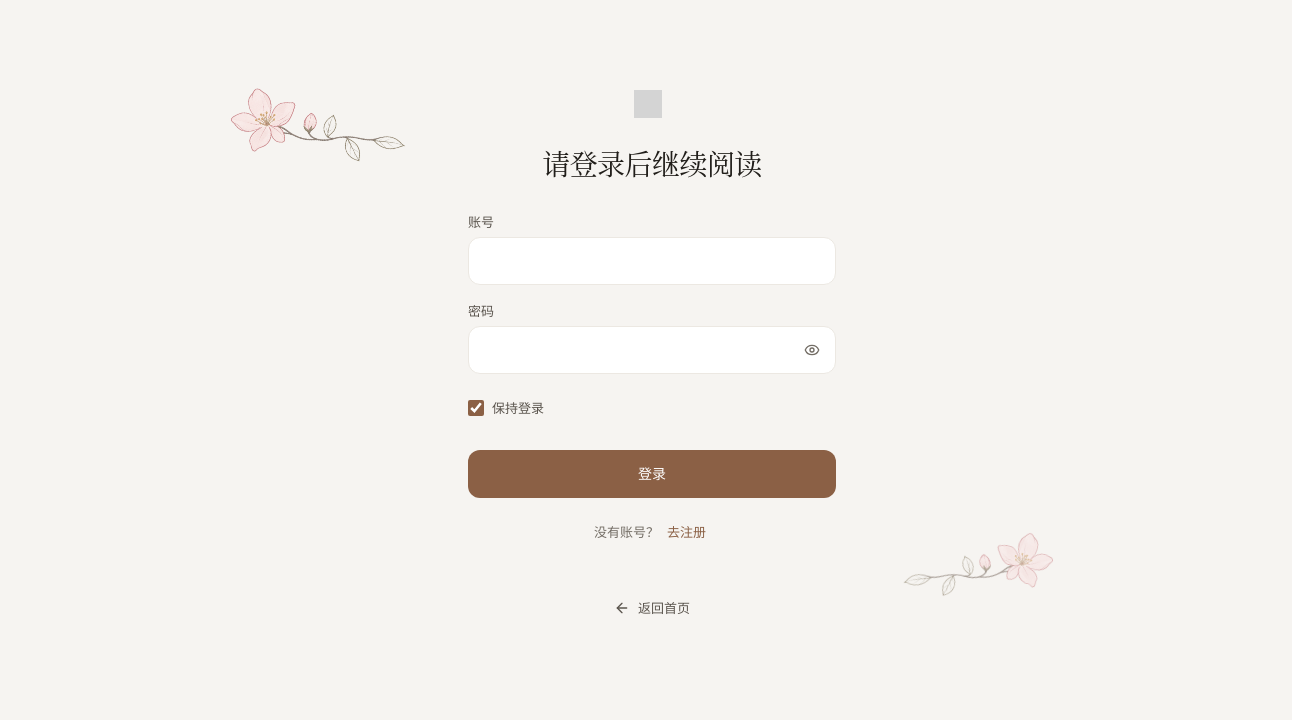
Scenario: Auth › 登录保留保持登录选择和来源页回跳
The width and height of the screenshot is (1292, 720).
Type " reader " into the field labelled "账号" at (652, 261), box [468,237,836,285]
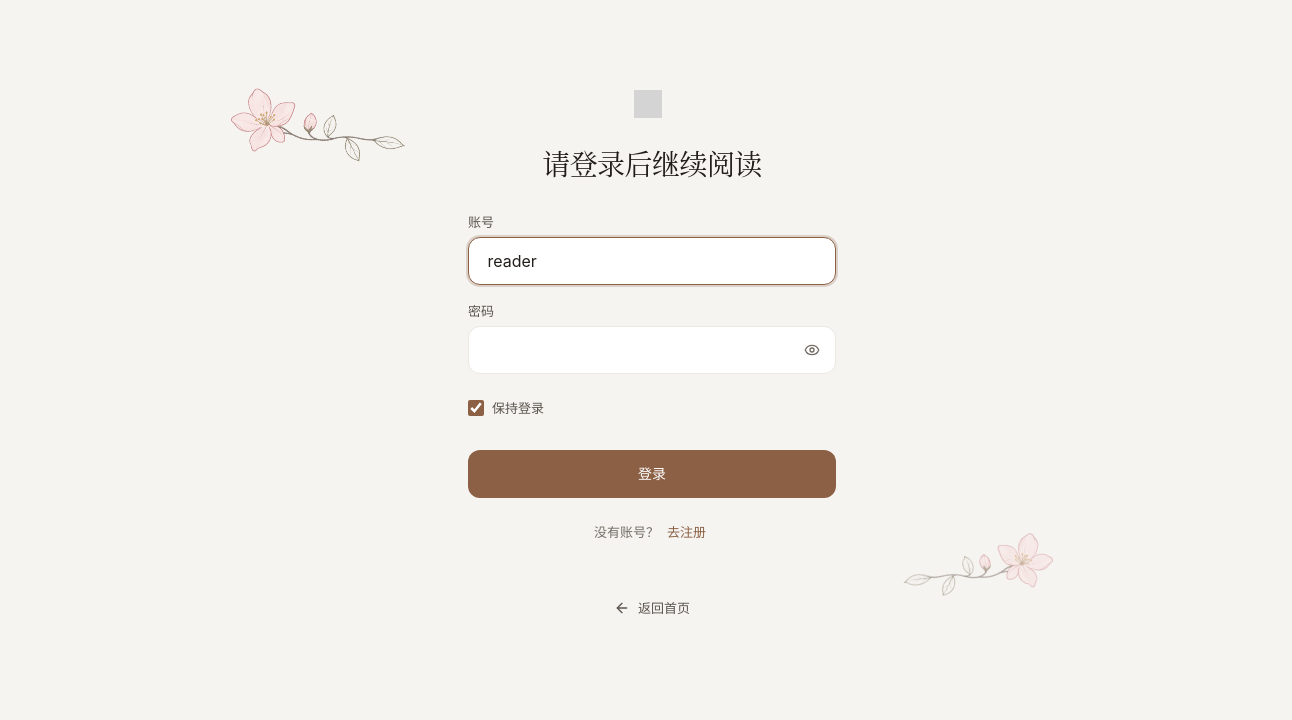
Type "secret" into the password field labelled "密码" at (652, 350), box [468,326,836,374]
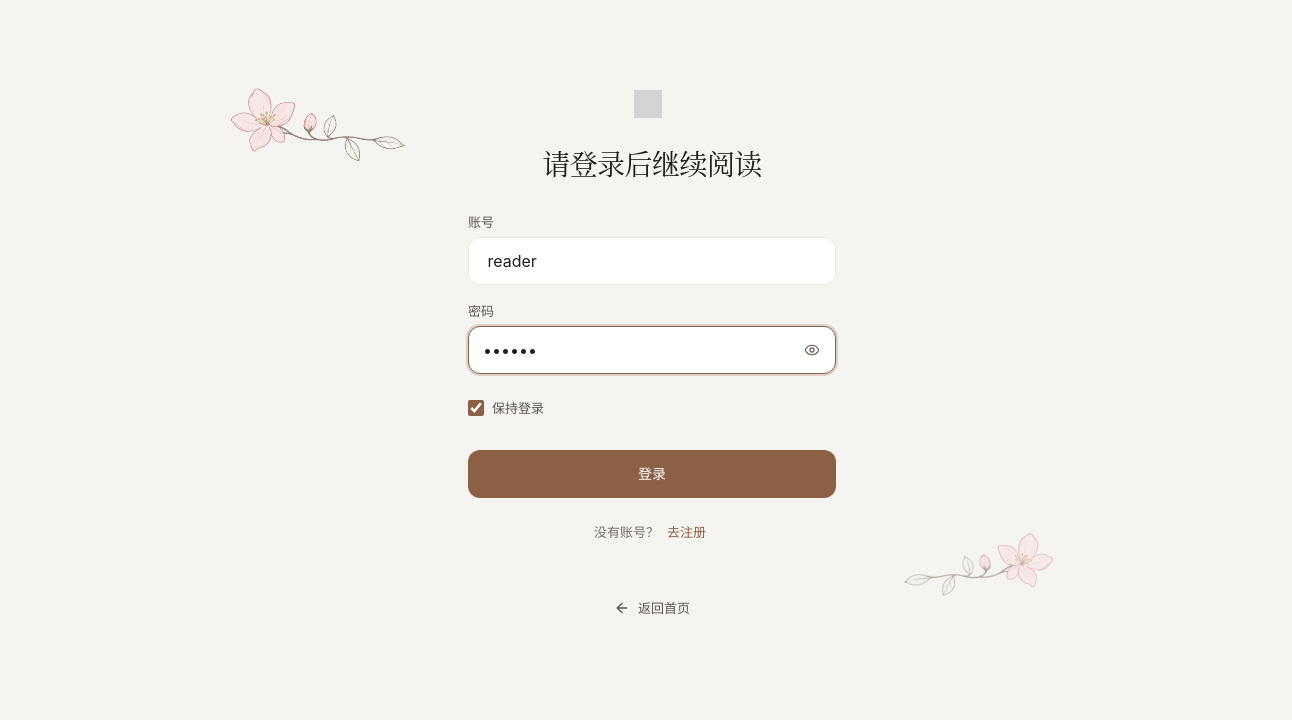
Click the checkbox labelled "保持登录" at (476, 408), box [468,400,484,416]
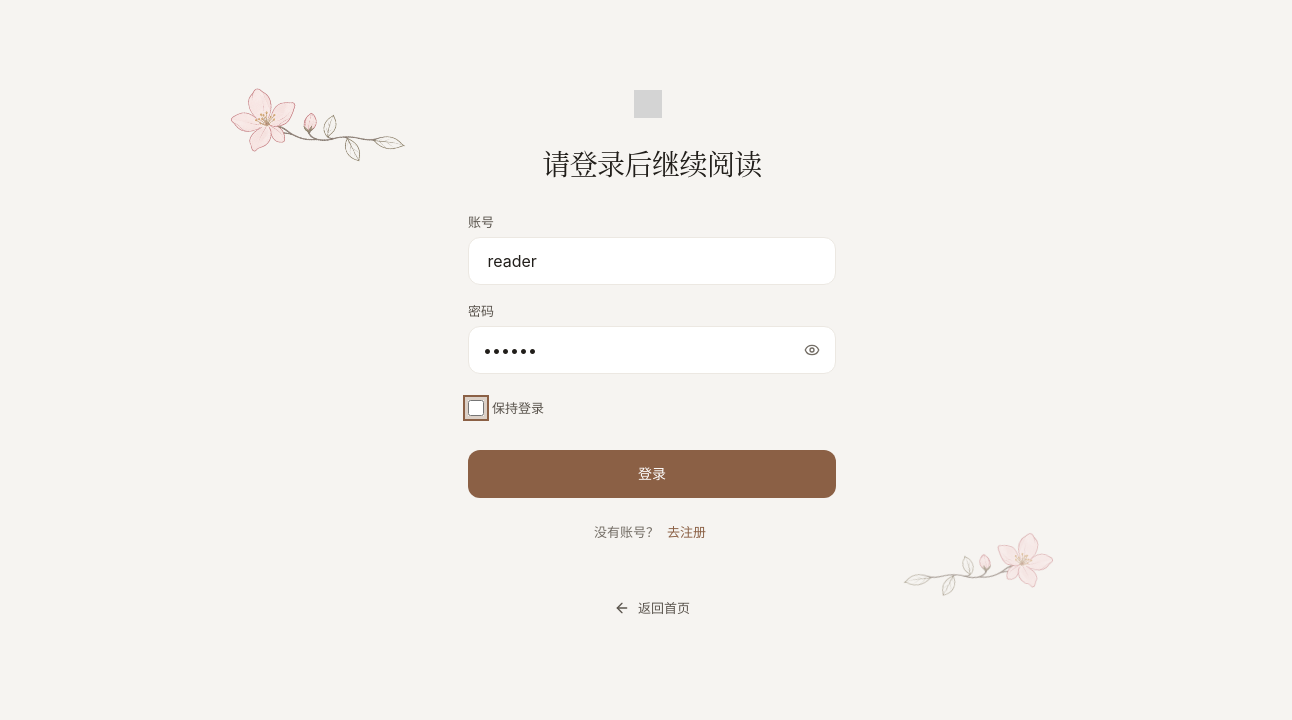
Click the button "登录" at (652, 474), box [468,450,836,498]
(page scrolled)
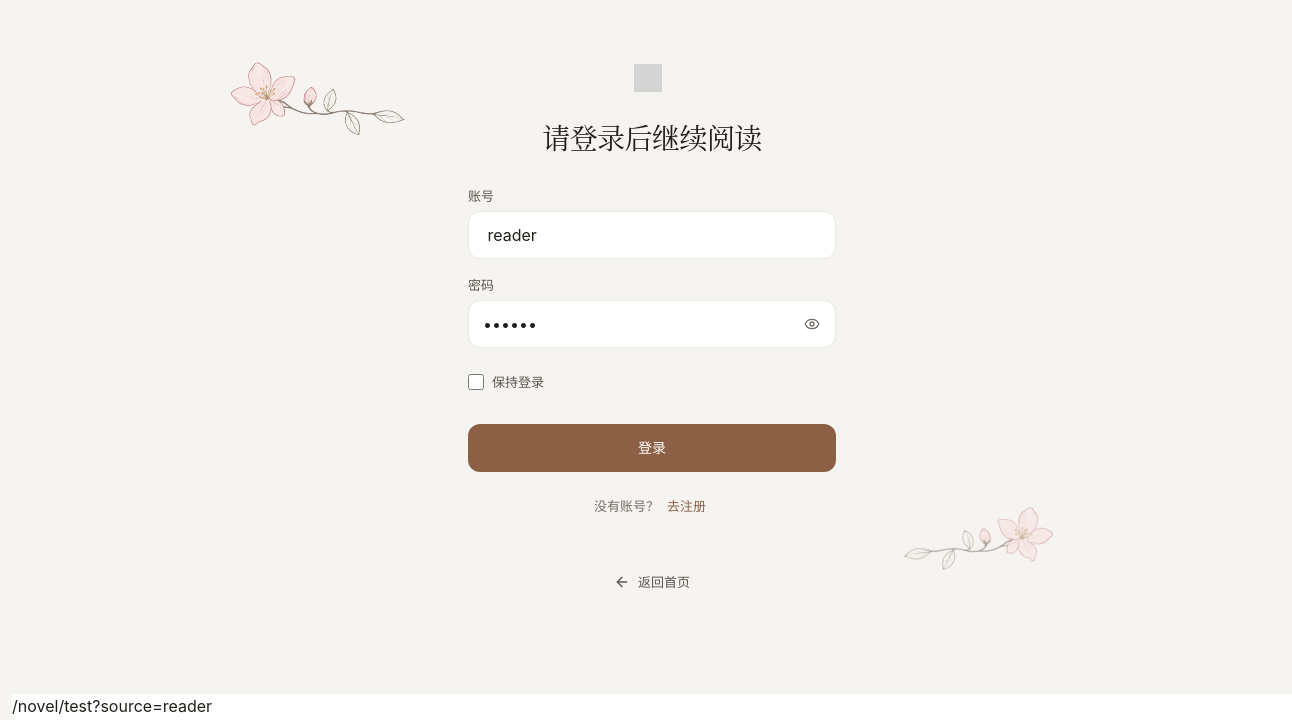
Result: the text "/novel/test?source=reader" is shown at [12,696,212,716]
